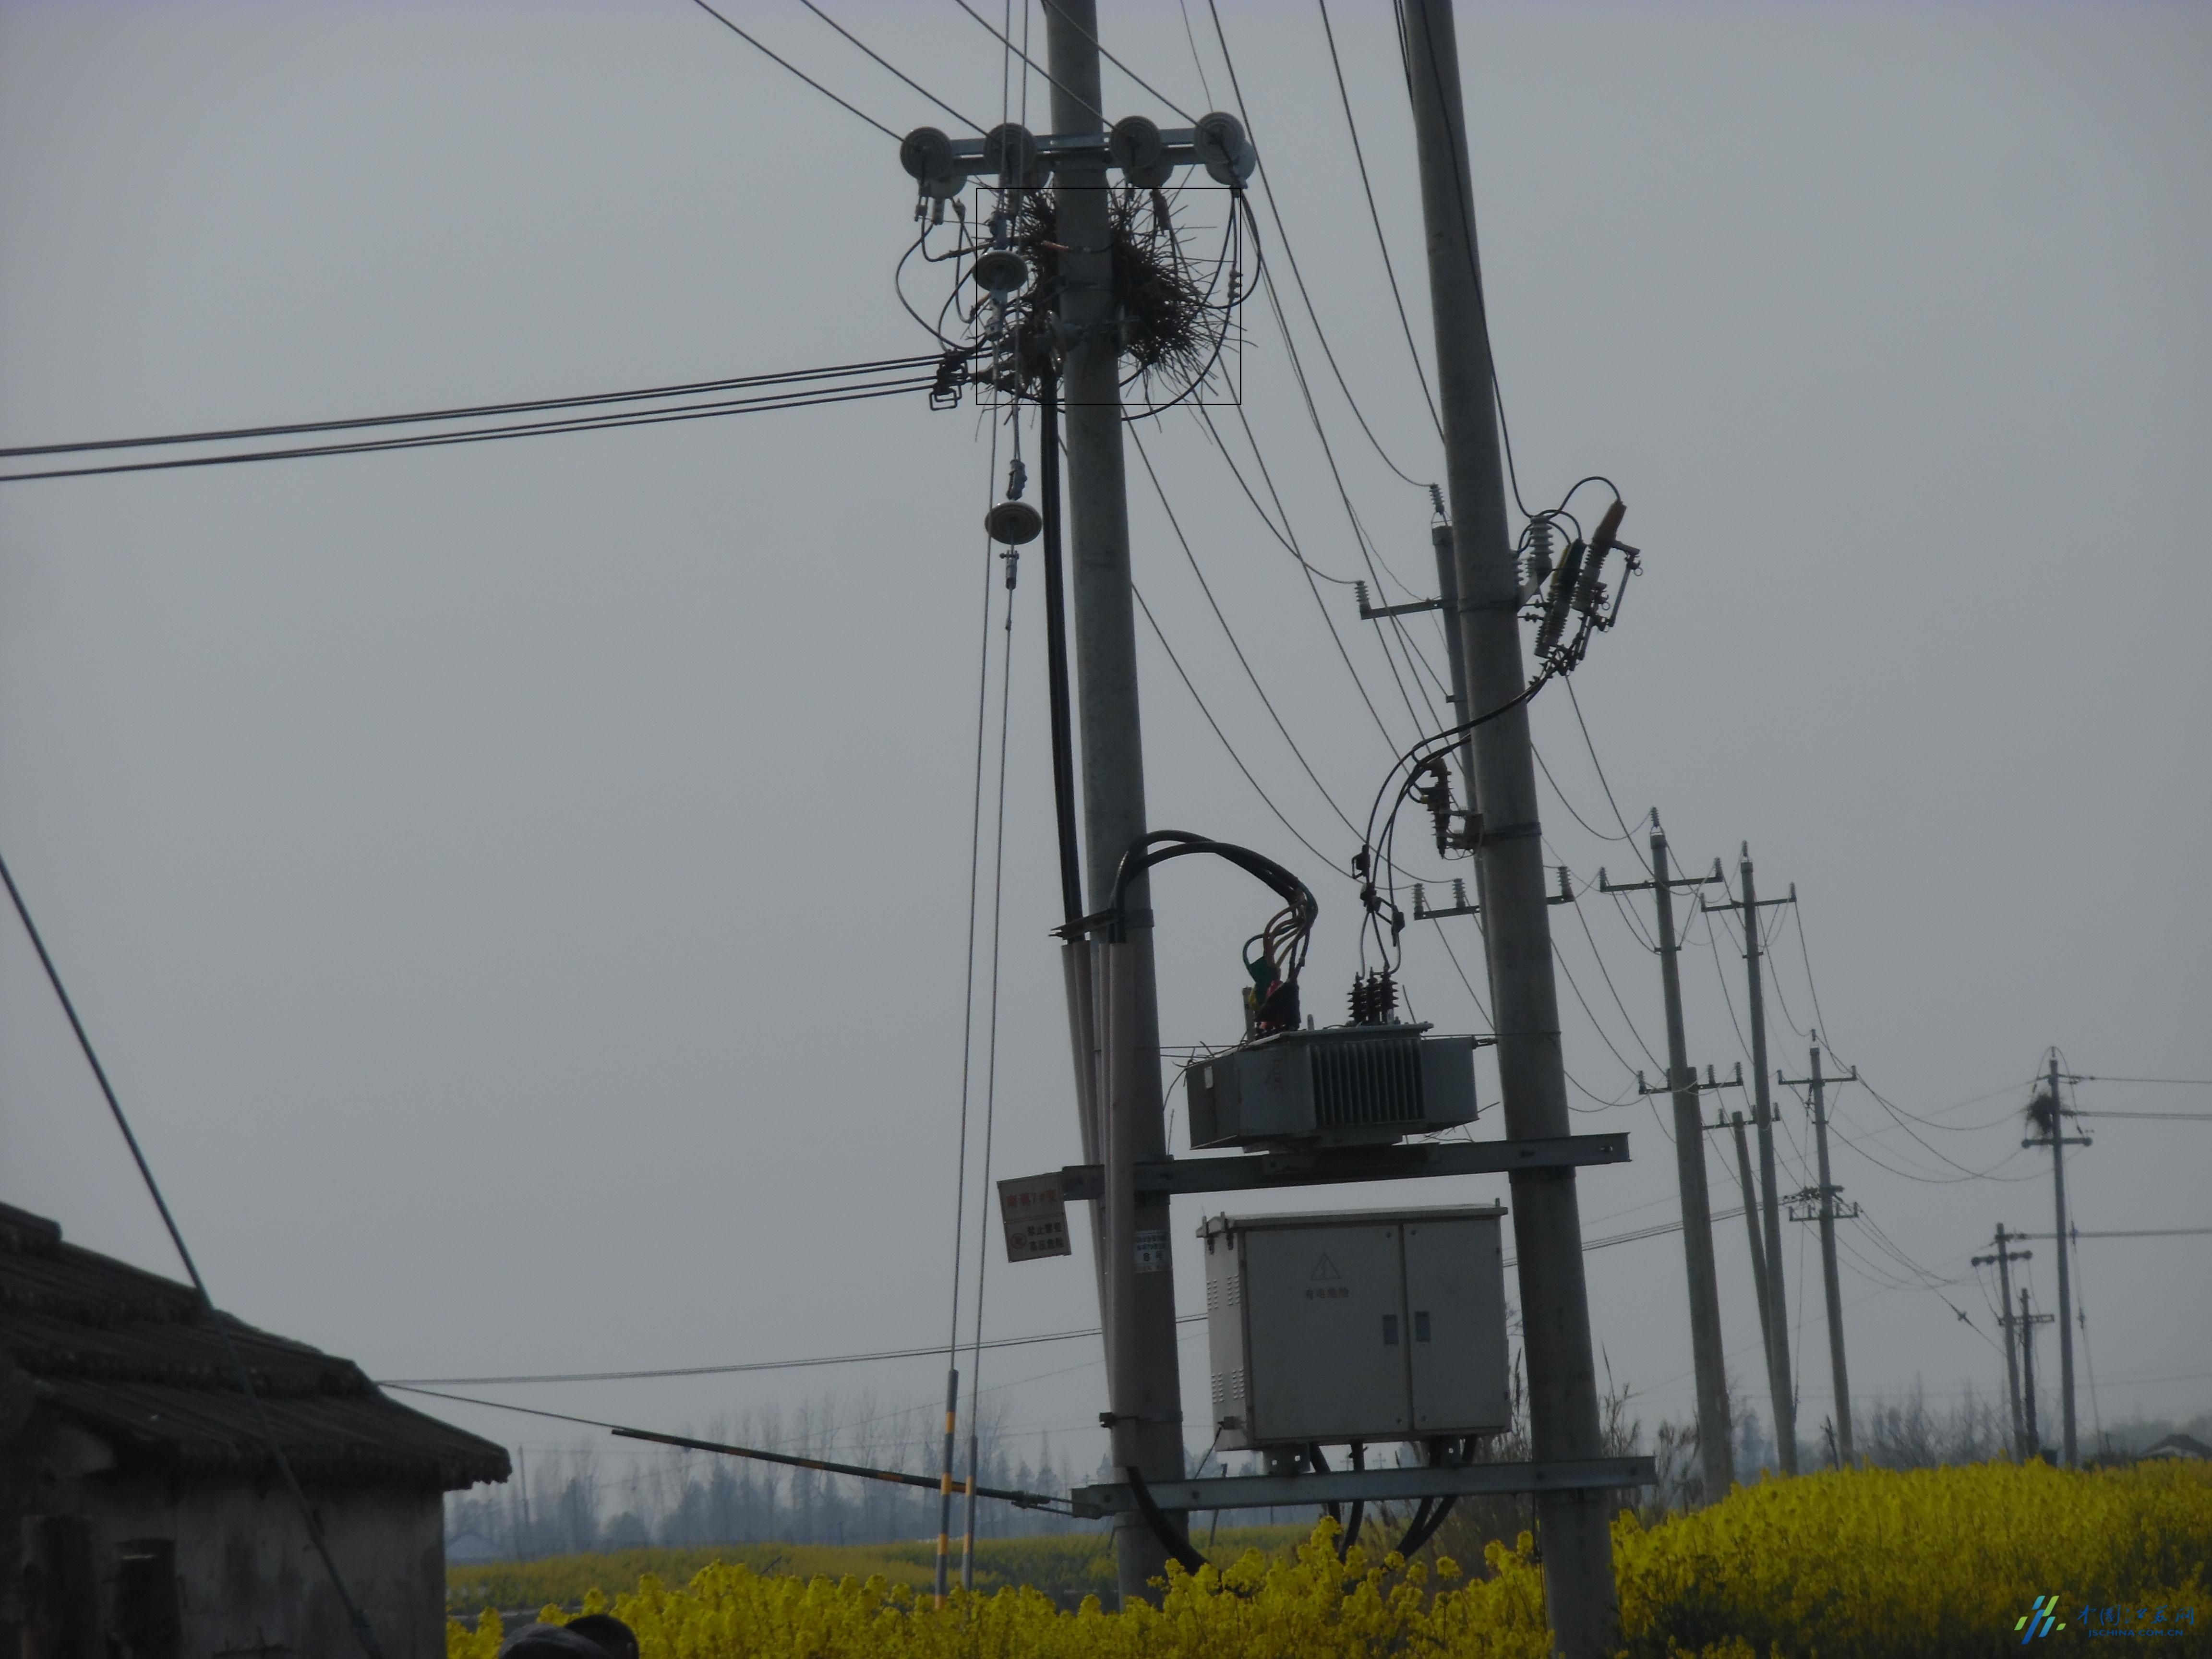bird-nest: (977, 188, 1240, 404)
